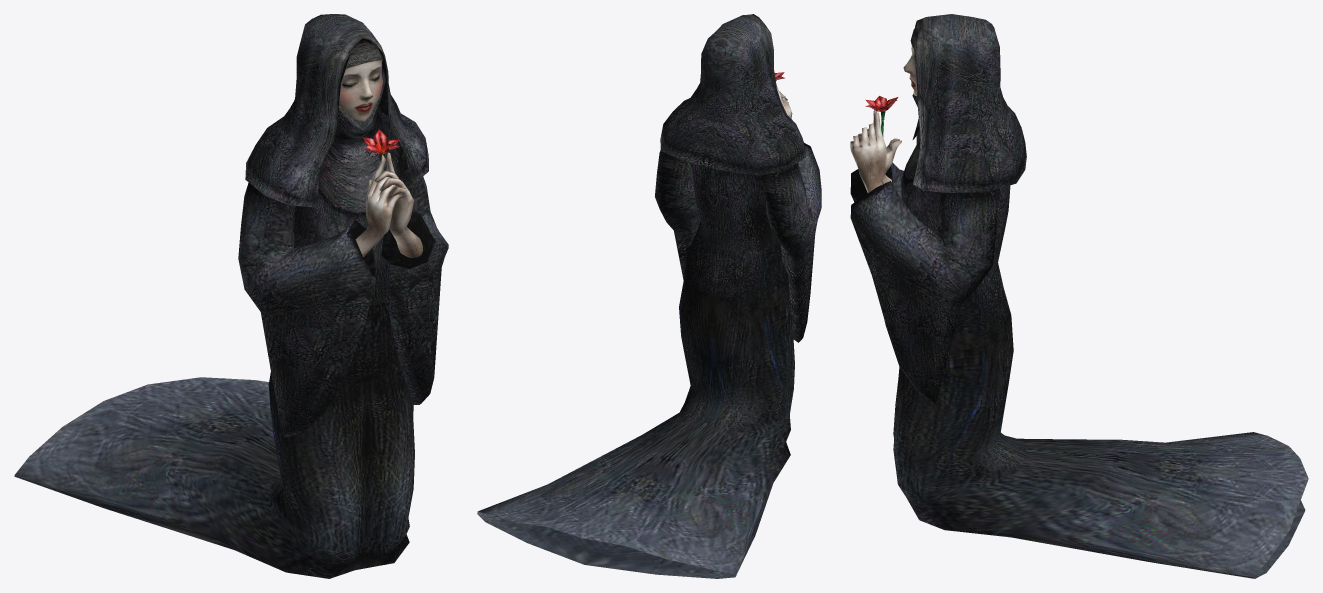
File: Saint.fbx
The picture shows the model from 3 angles, left to right: view 1: azimuth 30°, elevation 25°; view 2: azimuth 150°, elevation 25°; view 3: azimuth 270°, elevation 25°; orthographic projection. The views are drawn at different scales.
Parts seen in each view (by area): view 1: Body, Flower; view 2: Body; view 3: Body.
Part boxes in pixels (x1,y1,x2,y2): Body: (14,14,448,578); Flower: (363,129,400,172); Body: (477,14,821,578); Body: (850,14,1308,578).
Bounding box in the file's own units: 785 × 1247 × 1051.
Materials: 1 (1 with a texture image).
